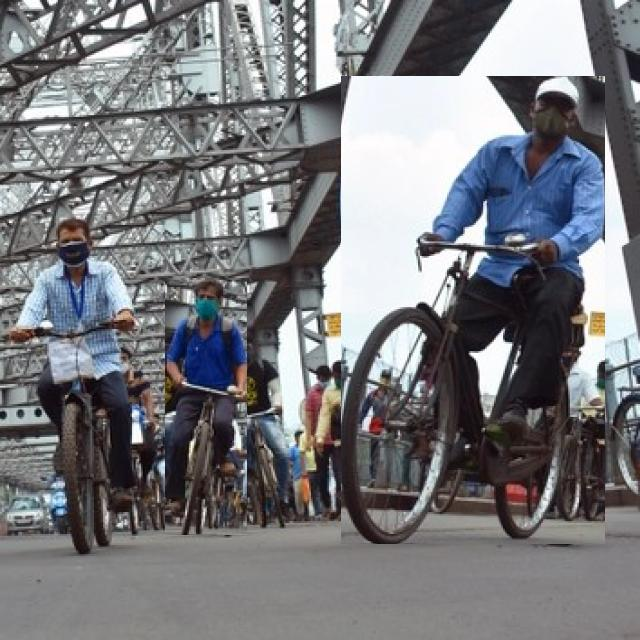bicycle: (341, 76, 605, 544), (8, 217, 136, 552), (166, 278, 247, 535)
